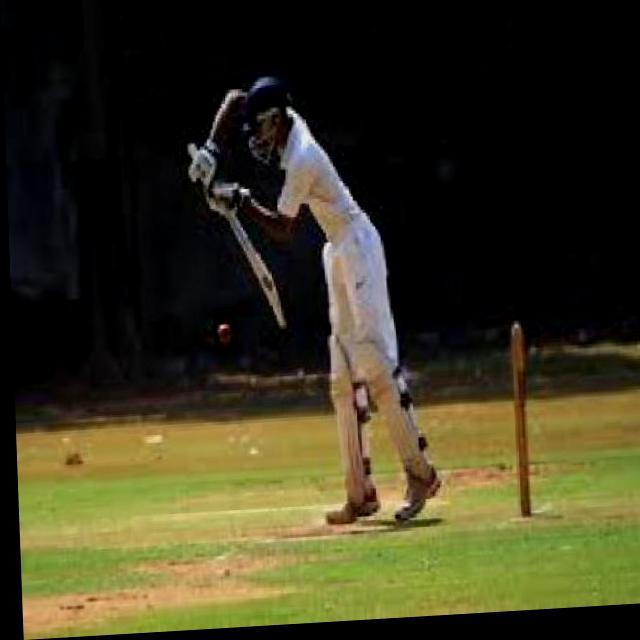-: (210, 310, 236, 358)
